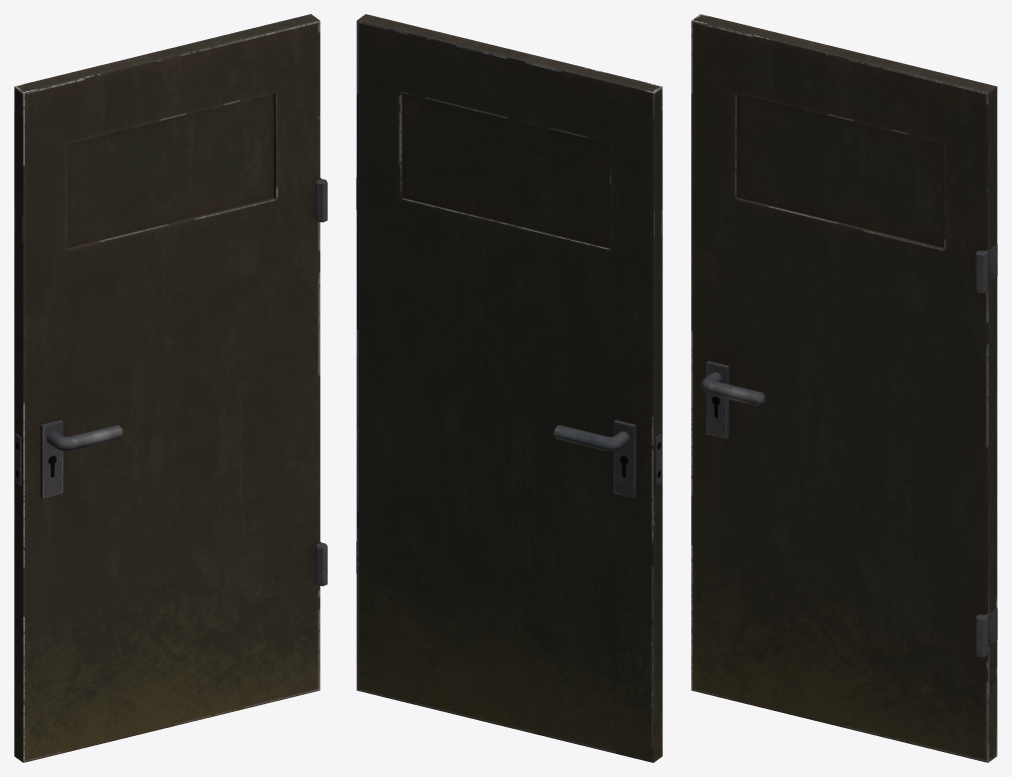
File: puerta.fbx
3 renders of one model, left to right at view 1: azimuth 30°, elevation 25°; view 2: azimuth 150°, elevation 25°; view 3: azimuth 330°, elevation 25°, orthographic.
Parts seen in each view (by area): view 1: door, handle; view 2: door, handle; view 3: door, handle.
Part boxes in pixels (x1=…): door: x1=14, y1=14, x2=327, y2=762; handle: x1=46, y1=425, x2=123, y2=451; door: x1=356, y1=14, x2=662, y2=762; handle: x1=553, y1=425, x2=629, y2=451; door: x1=691, y1=14, x2=997, y2=762; handle: x1=701, y1=372, x2=765, y2=406.
Size of the model in its own units: 96.35 by 205 by 23.36.
